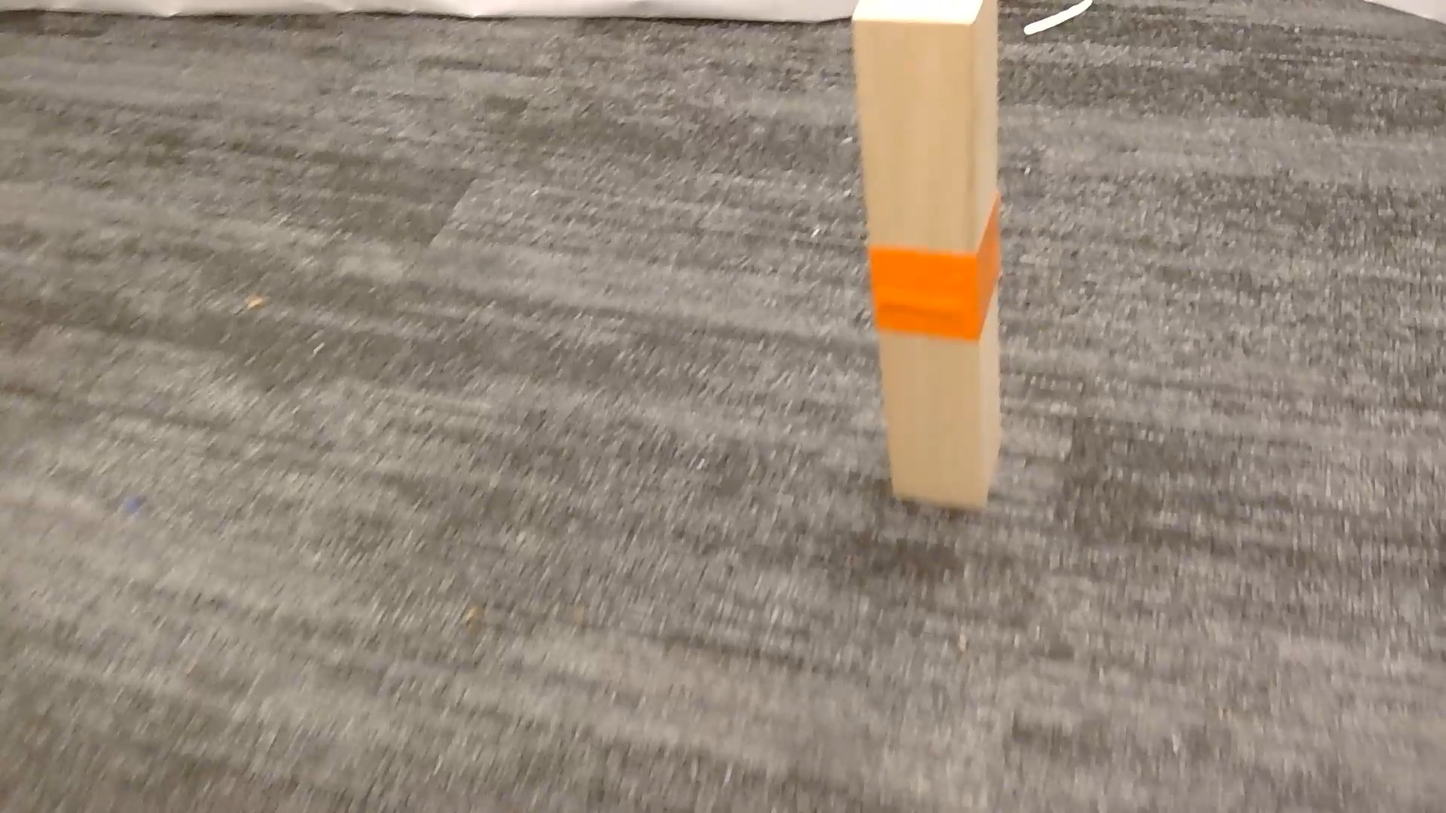Wooden Block: (853, 0, 1002, 507)
